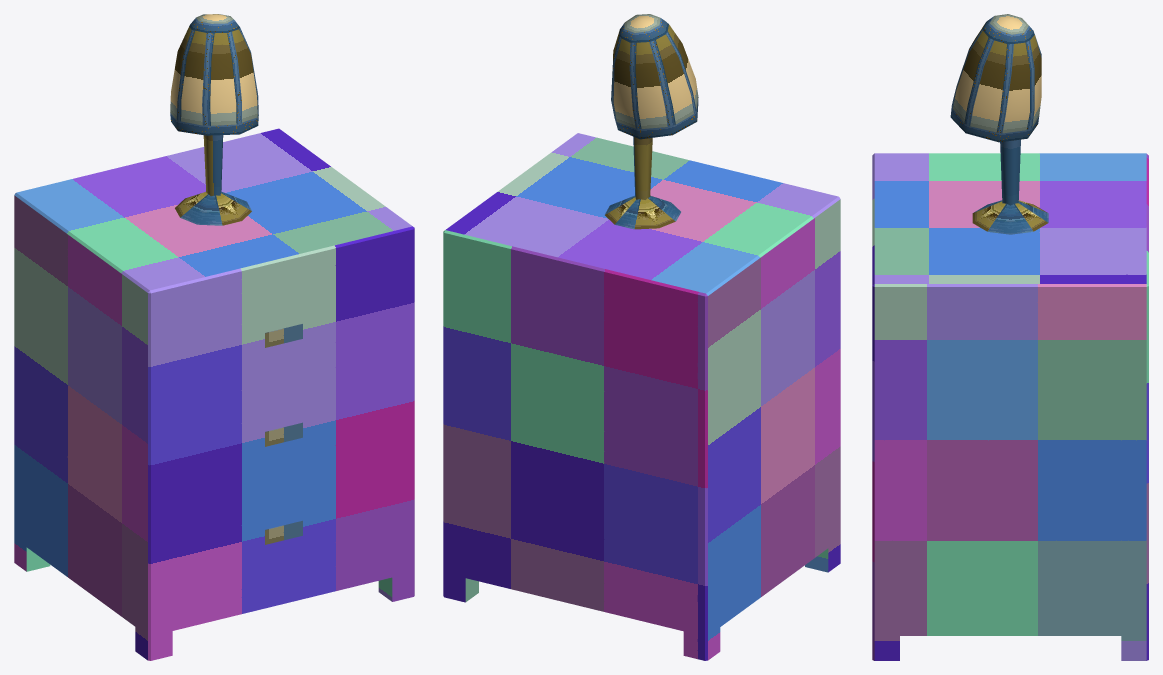
The model's file is rmk_blu_lamp_jwl.dae.
The picture shows the model from 3 angles, left to right: view 1: azimuth 30°, elevation 25°; view 2: azimuth 150°, elevation 25°; view 3: azimuth 270°, elevation 25°; orthographic projection. The views are drawn at different scales.
Parts seen in each view (by area): view 1: rmk_blu_lamp_jwl; view 2: rmk_blu_lamp_jwl; view 3: rmk_blu_lamp_jwl.
Part boxes in pixels (x1,y1,x2,y2): rmk_blu_lamp_jwl: (14,14,414,660); rmk_blu_lamp_jwl: (443,14,840,660); rmk_blu_lamp_jwl: (872,14,1148,660).
Bounding box in the file's own units: 27.2 × 55 × 24.27.
2 materials, 2 textured.
